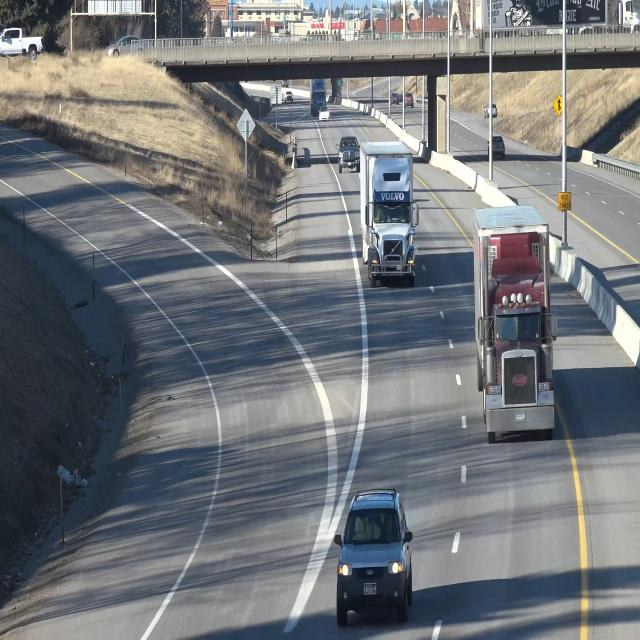Car: (471, 206, 559, 444), (337, 485, 415, 617), (361, 140, 418, 284), (336, 125, 363, 178), (488, 131, 507, 163)
